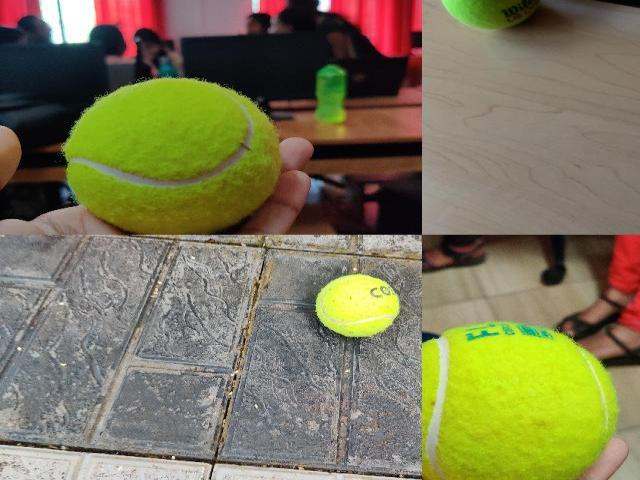tennis-ball: (63, 78, 281, 234), (422, 323, 617, 479), (314, 273, 400, 337), (440, 0, 543, 30)
